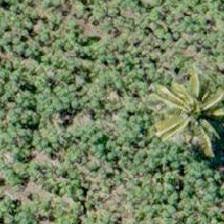Kelapa_Sawit: (147, 71, 223, 162)
